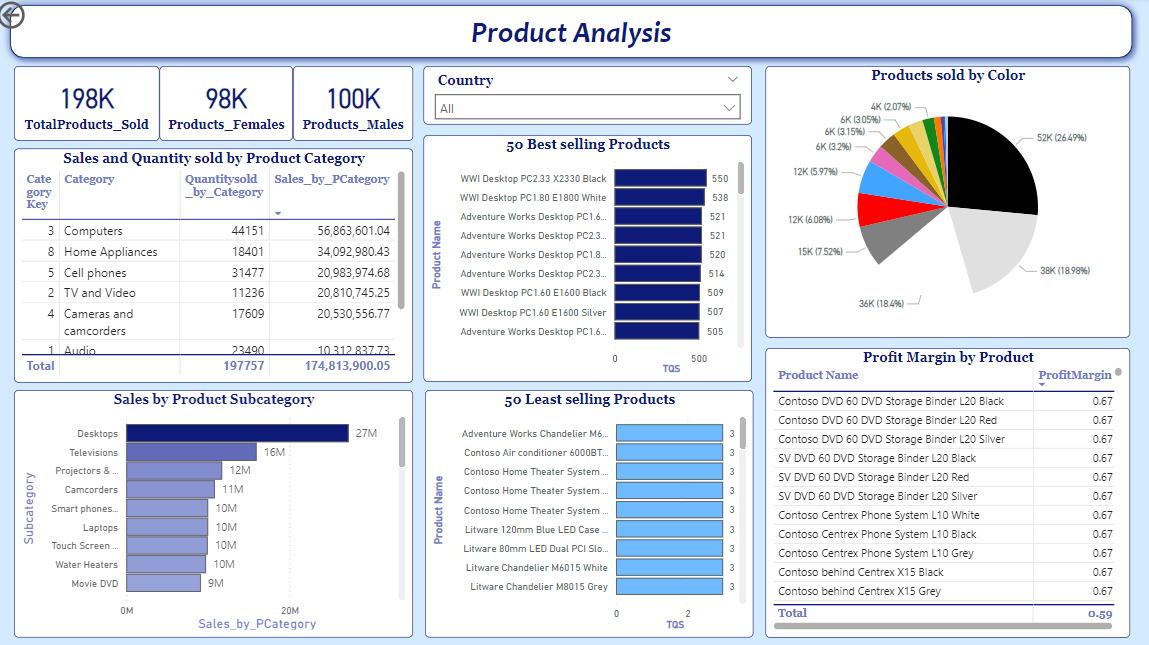

The page's visual inventory and layout, read from the dashboard file:
{"tool":"powerbi","page":{"name":"Product Analysis","canvas":[1280,720],"ordinal":2},"visuals":[{"type":"shape","box":[0,0,1280.5,720.6],"z":0},{"type":"shape","box":[9.9,0,1257.3,76.2],"z":1000},{"type":"card","fields":{"Values":["Calculated measure.TotalProducts_Sold"]},"box":[23.2,76.2,160.7,82.8],"z":2000},{"type":"card","fields":{"Values":["Calculated measure.Products_Males"]},"box":[331.3,76.2,132.5,82.8],"z":3000},{"type":"card","fields":{"Values":["Calculated measure.Products_Females"]},"box":[183.9,76.2,147.4,82.8],"z":4000},{"type":"tableEx","title":"Sales and Quantity sold by Product Category","fields":{"Values":["dataspark products.CategoryKey","dataspark products.Category","Calculated measure.Quantitysold_by_Category","Calculated measure.Sales_by_PCategory"]},"box":[23.2,159,440.6,266.7],"z":5000},{"type":"actionButton","box":[0,0,100,40],"z":6000},{"type":"slicer","fields":{"Values":["dataspark customers.C_Country"]},"box":[475.4,76.2,362.8,64.6],"z":7000},{"type":"barChart","title":"Sales by Product Subcategory","fields":{"Category":["dataspark products.Subcategory"],"Y":["Calculated measure.Sales_by_PCategory"]},"box":[23.2,434,440.6,273.3],"z":8000},{"type":"barChart","title":"50 Best selling Products","fields":{"Category":["dataspark products.Product Name"],"Y":["Calculated measure.TQS"]},"box":[475,152.5,362.5,272.5],"z":9000},{"type":"barChart","title":"50 Least selling Products","fields":{"Category":["dataspark products.Product Name"],"Y":["Calculated measure.TQS"]},"box":[477.1,434,362.8,273.3],"z":10000},{"type":"pieChart","title":"Products sold by Color ","fields":{"Category":["dataspark products.Color"],"Y":["Calculated measure.Quantitysold_by_Color"]},"box":[853.1,76.2,402.5,299.8],"z":11000},{"type":"tableEx","title":"Profit Margin by Product","fields":{"Values":["dataspark products.Product Name","Calculated measure.ProfitMargin"]},"box":[853.1,387.6,402.5,319.7],"z":12000}]}

Visuals, with their boxes in screenshot pixels (x1, y1, x2, y2), scaled from the page's 1280x720 canvas onto the 1149x645 screenshot:
shape: box=[0, 0, 1148, 644]
shape: box=[9, 0, 1138, 68]
card - Calculated measure.TotalProducts_Sold: box=[21, 68, 165, 142]
card - Calculated measure.Products_Males: box=[297, 68, 416, 142]
card - Calculated measure.Products_Females: box=[165, 68, 297, 142]
"Sales and Quantity sold by Product Category" tableEx: box=[21, 142, 416, 381]
actionButton: box=[0, 0, 90, 36]
slicer - dataspark customers.C_Country: box=[427, 68, 752, 126]
"Sales by Product Subcategory" barChart: box=[21, 389, 416, 634]
"50 Best selling Products" barChart: box=[426, 137, 752, 381]
"50 Least selling Products" barChart: box=[428, 389, 754, 634]
"Products sold by Color " pieChart: box=[766, 68, 1127, 337]
"Profit Margin by Product" tableEx: box=[766, 347, 1127, 634]
